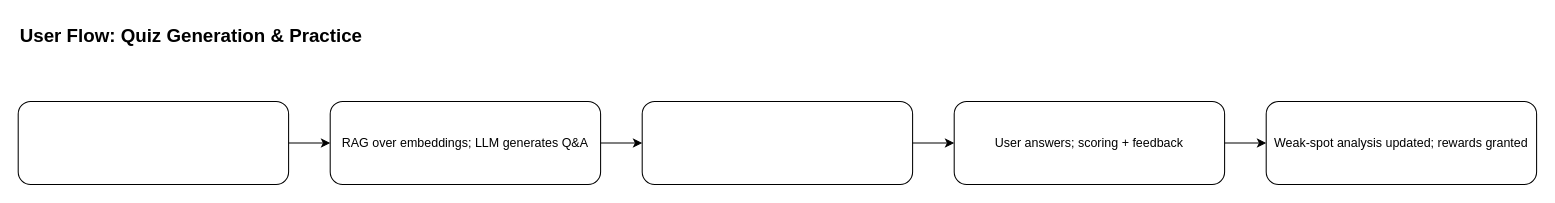
The diagram is 1555 pixels wide and 203 high, and some of its shapes have lost their labels. Each missing label, with the centre of its shape:
Quiz presented to user: pixel 777 142
Select note → 'Generate Quiz': pixel 153 142
